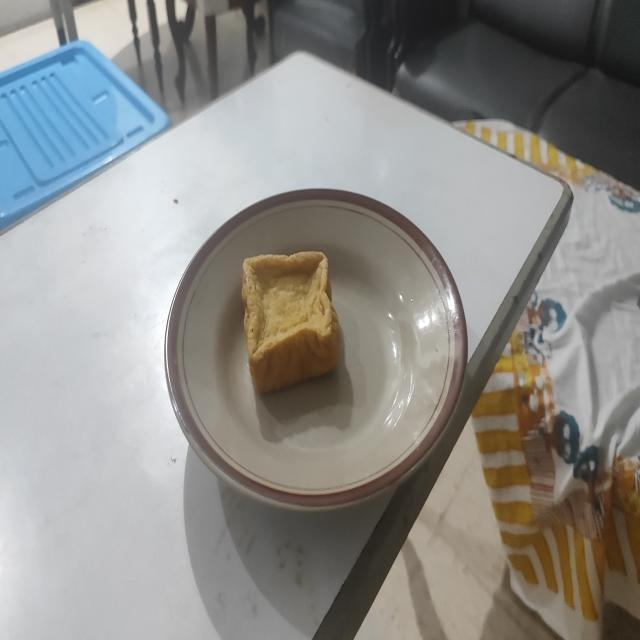tahu_goreng: (242, 252, 340, 394)
